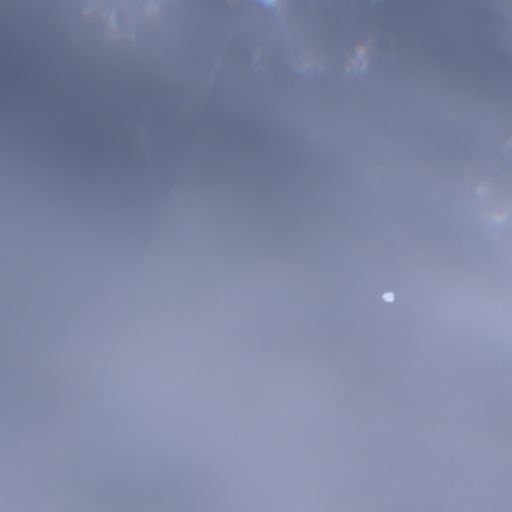Iceberg: (383, 292, 393, 301)
